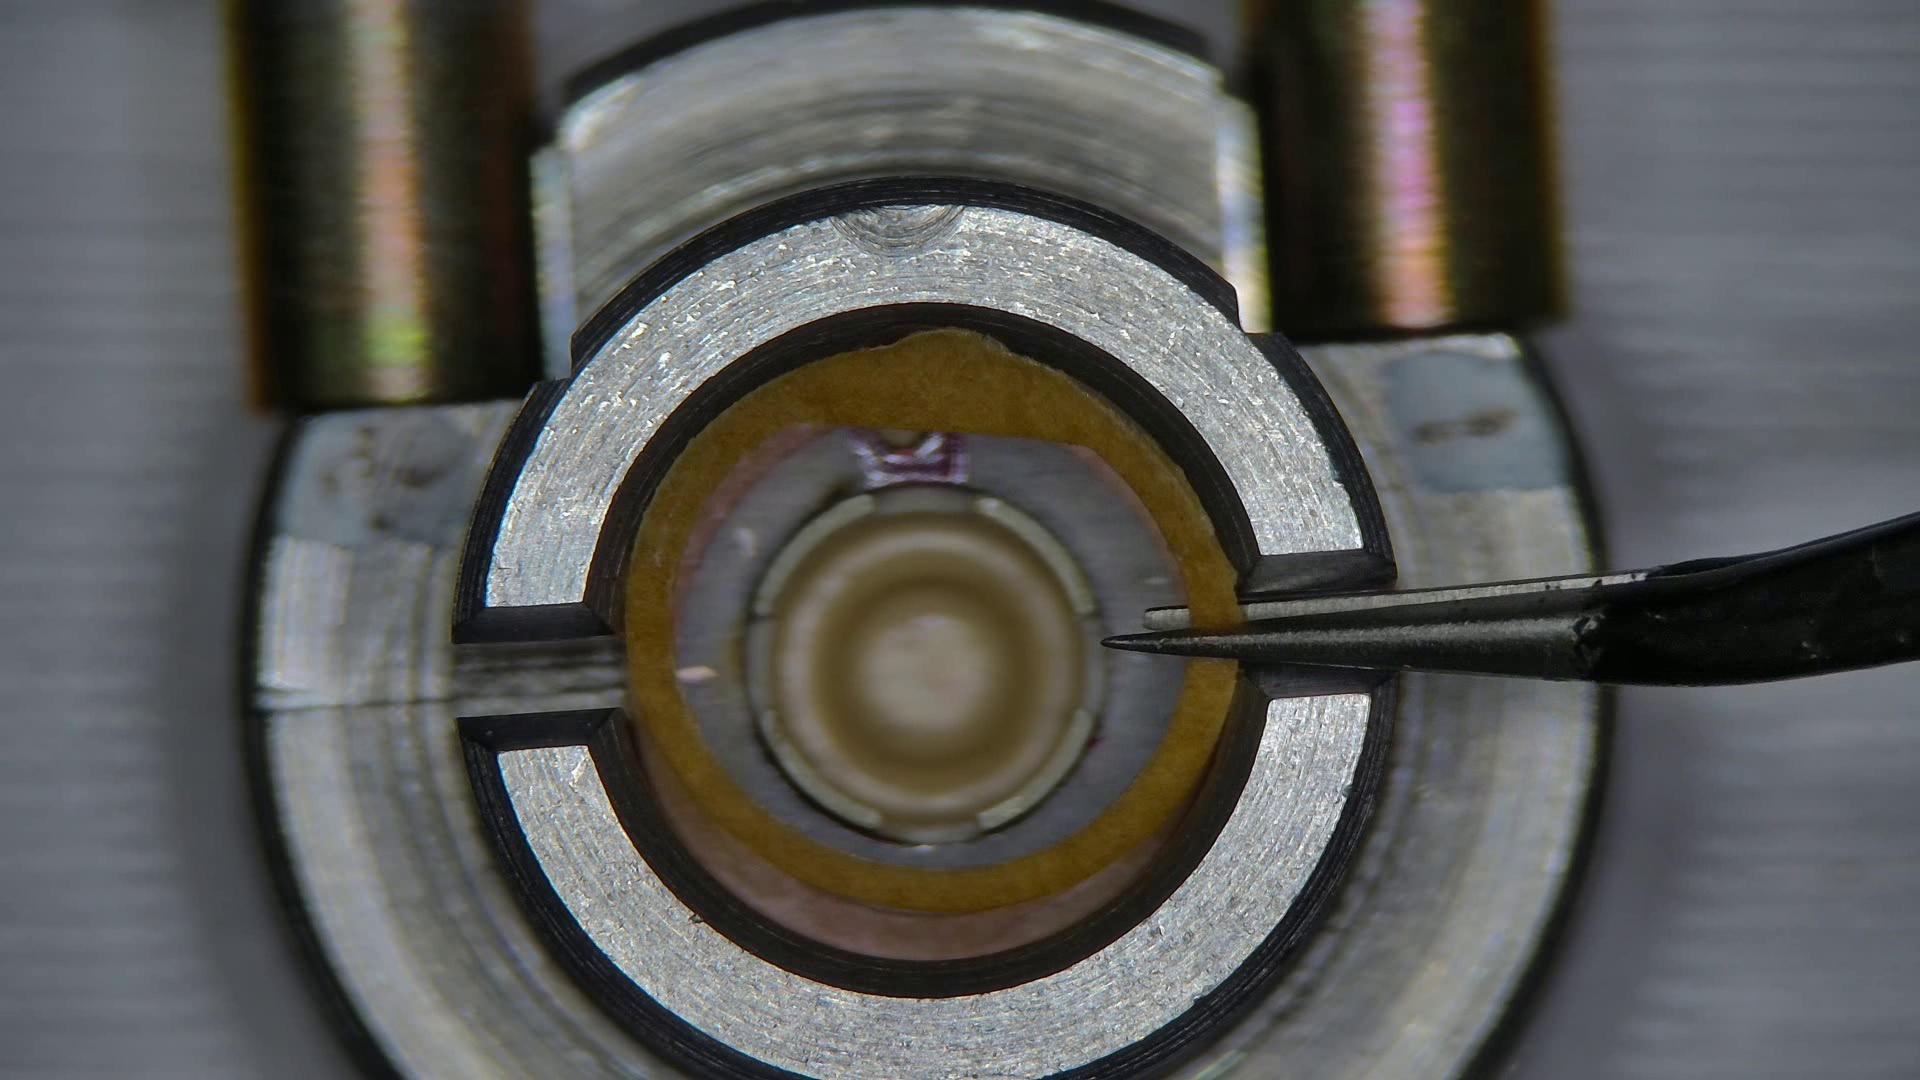GreyOring: (640, 745, 1160, 957), (674, 425, 820, 589)
YellowOring: (676, 433, 1182, 862)
redOring: (625, 330, 1236, 913)
